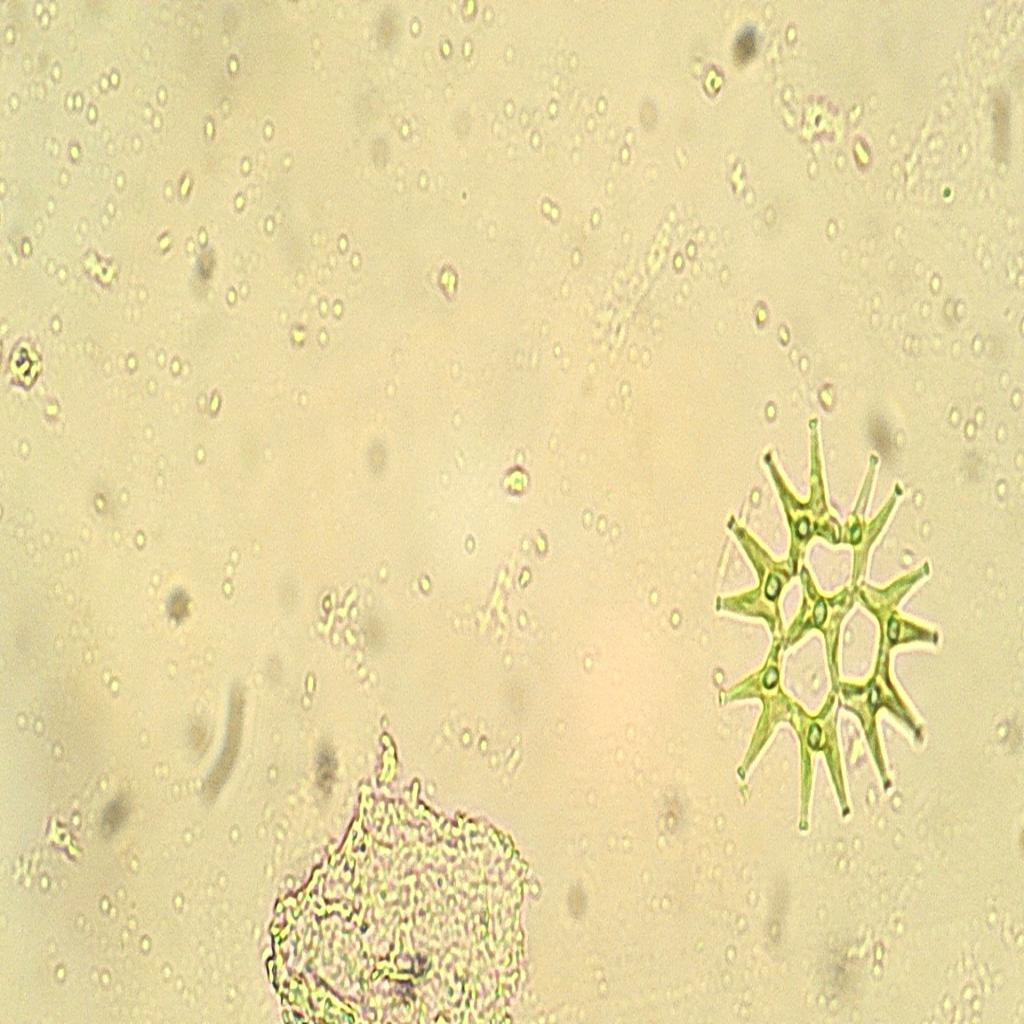Pediastrum_1T: (689, 380, 970, 878)
